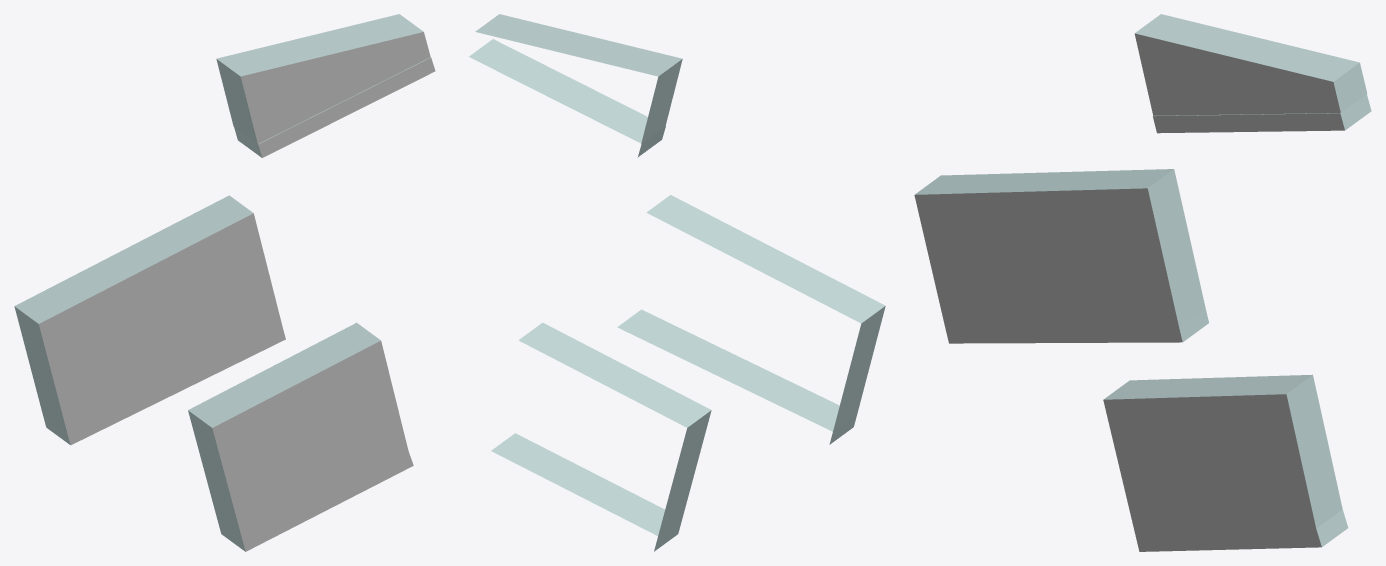
The picture shows the model from 3 angles, left to right: view 1: azimuth 30°, elevation 25°; view 2: azimuth 150°, elevation 25°; view 3: azimuth 330°, elevation 25°; orthographic projection. The views are drawn at different scales.
Visible parts, largest first — view 1: 0_2_1_2_3_0_0_1; view 2: 0_2_1_2_3_0_0_1; view 3: 0_2_1_2_3_0_0_1.
Part boxes in pixels (x1,y1,x2,y2): 0_2_1_2_3_0_0_1: (14, 14, 435, 551); 0_2_1_2_3_0_0_1: (469, 14, 885, 551); 0_2_1_2_3_0_0_1: (914, 14, 1371, 551).
Bounding box in the file's own units: 28.16 × 32.31 × 3.06.
